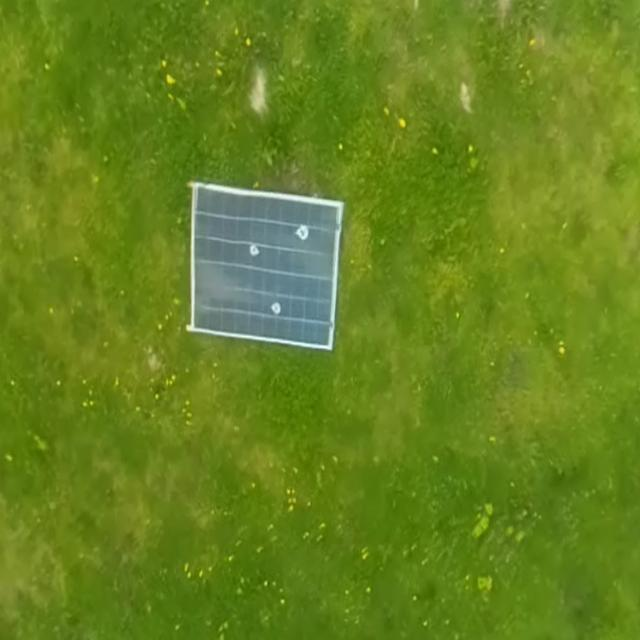faulty: (195, 188, 337, 342)
